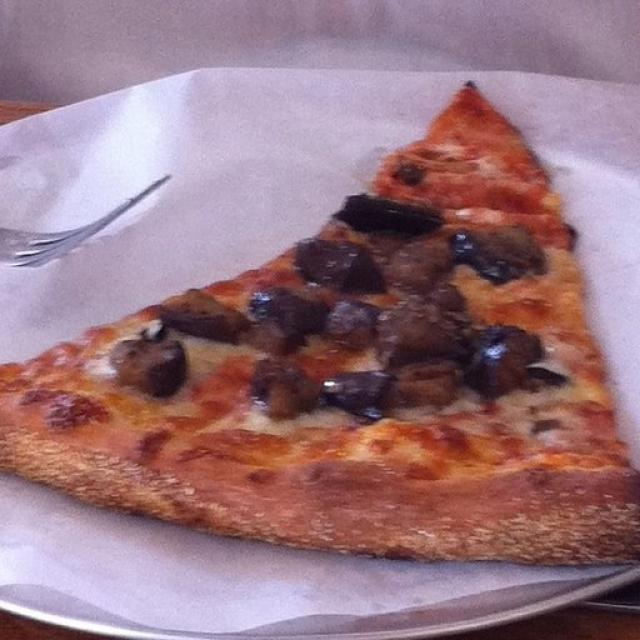Beef: (397, 246, 476, 308), (383, 307, 465, 363), (262, 362, 314, 417), (324, 302, 382, 350)
Mushrooms: (472, 333, 564, 389), (167, 292, 251, 349), (457, 222, 548, 272), (297, 246, 383, 297), (109, 336, 186, 392), (348, 193, 441, 237), (261, 293, 332, 339), (329, 370, 391, 422)
Pizza: (0, 85, 640, 568)
